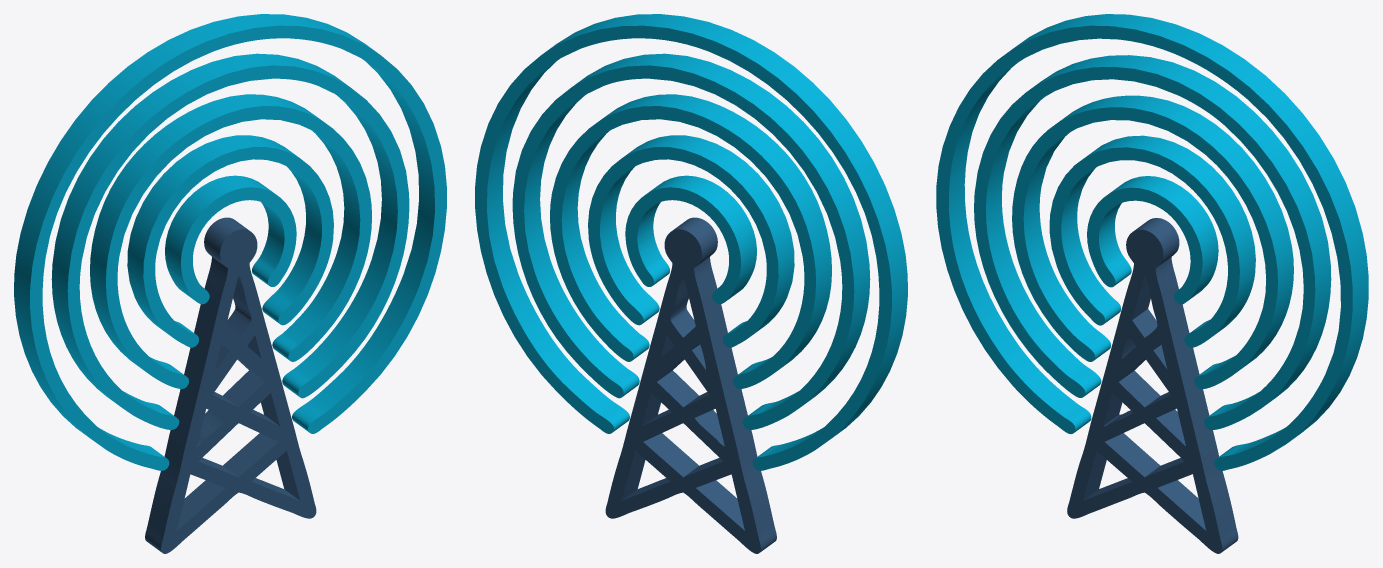
The model's file is telecom_tower_-_3d_model.glb.
The picture shows the model from 3 angles, left to right: view 1: azimuth 30°, elevation 25°; view 2: azimuth 150°, elevation 25°; view 3: azimuth 330°, elevation 25°; orthographic projection.
Parts seen in each view (by area): view 1: Curve.001, Curve.002; view 2: Curve.001, Curve.002; view 3: Curve.001, Curve.002.
Part boxes in pixels (<box>): Curve.001: <box>14,14,446,470</box>; Curve.002: <box>145,217,316,553</box>; Curve.001: <box>475,14,907,470</box>; Curve.002: <box>605,217,776,553</box>; Curve.001: <box>936,14,1368,470</box>; Curve.002: <box>1067,218,1238,553</box>.
Size of the model in its own units: 0.3157 by 0.3653 by 0.021.
